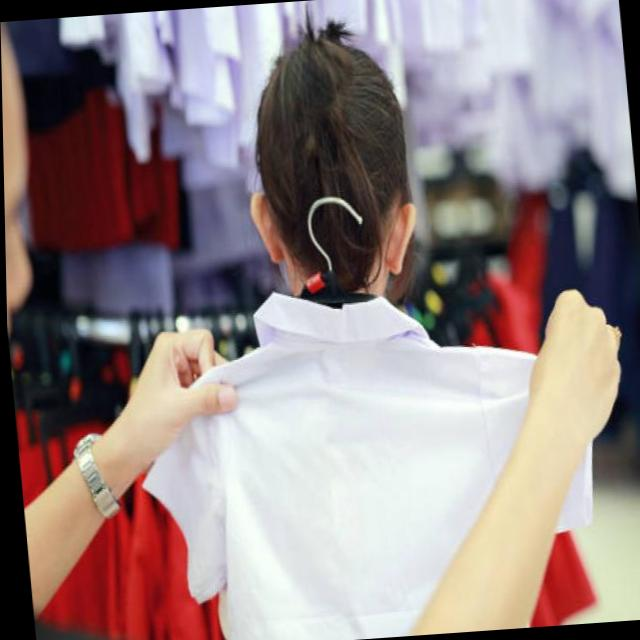no helmet: (241, 37, 425, 310)
